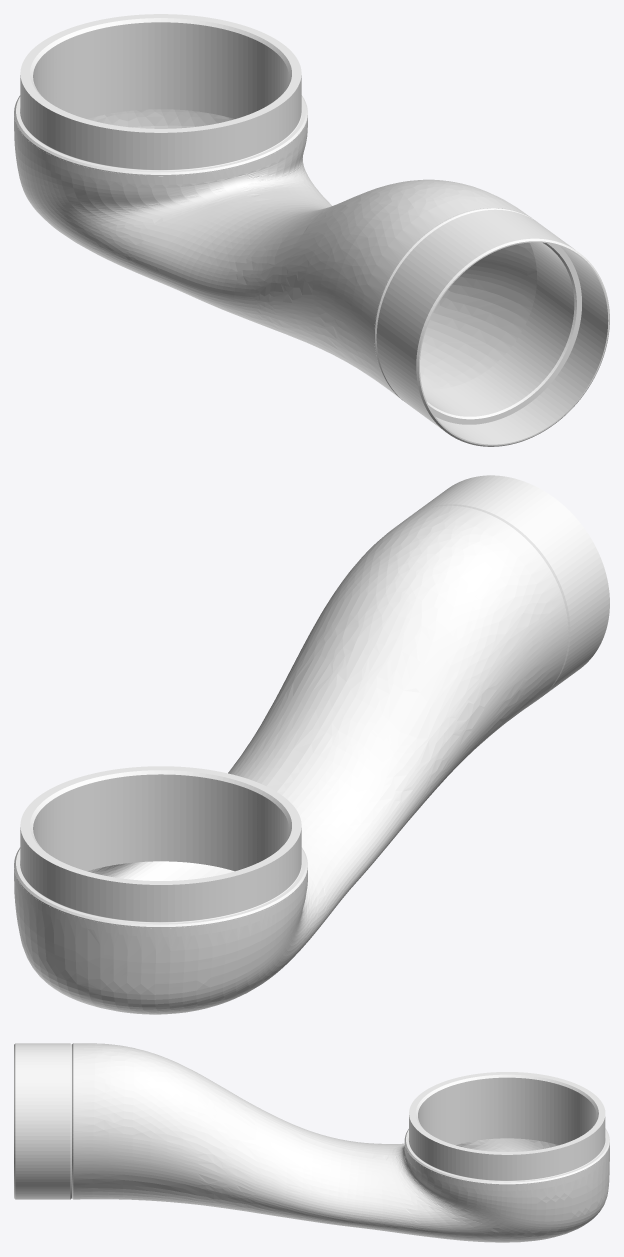
The model's file is Kinova7dof_forearm.obj.
3 views of the same model, one above another, from view 1: azimuth 30°, elevation 25°; view 2: azimuth 150°, elevation 25°; view 3: azimuth 270°, elevation 25° (orthographic). The views are drawn at different scales.
Parts seen in each view (by area): view 1: Kinova7dof_forearm; view 2: Kinova7dof_forearm; view 3: Kinova7dof_forearm.
Boxes of the visible parts, left/top/right/bottom form: Kinova7dof_forearm: left=14, top=14, right=609, bottom=446; Kinova7dof_forearm: left=14, top=475, right=609, bottom=1014; Kinova7dof_forearm: left=14, top=1043, right=609, bottom=1242.
Bounding box in the file's own units: 0.092 × 0.0846 × 0.2669.
Materials: 1 (1 with a texture image).
